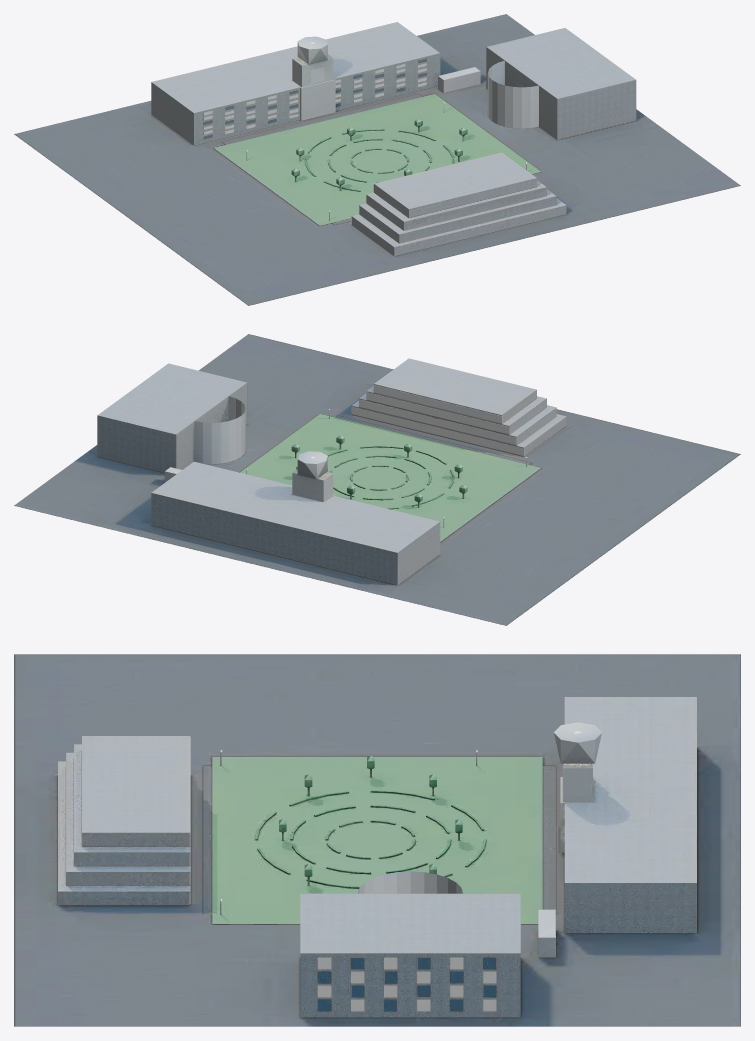
Rendered from starabyss_univ_low.glb.
3 views of the same model, one above another, from view 1: azimuth 30°, elevation 25°; view 2: azimuth 150°, elevation 25°; view 3: azimuth 270°, elevation 25° (orthographic). The views are drawn at different scales.
Visible parts, largest first — view 1: site_ground, props_main, props_plaza, props_library, props_medical, props_link; view 2: site_ground, props_main, props_plaza, props_medical, props_library; view 3: site_ground, props_plaza, props_main, props_medical, props_library, props_link.
Boxes of the visible parts, <box> form: site_ground: <box>14,14,740,305</box>; props_main: <box>151,22,440,145</box>; props_plaza: <box>214,93,541,225</box>; props_library: <box>351,152,566,256</box>; props_medical: <box>486,28,636,139</box>; props_link: <box>438,67,480,92</box>; site_ground: <box>14,334,740,625</box>; props_main: <box>151,451,440,585</box>; props_plaza: <box>240,414,540,541</box>; props_medical: <box>97,363,247,472</box>; props_library: <box>351,358,566,456</box>; site_ground: <box>14,654,740,1026</box>; props_plaza: <box>203,756,555,924</box>; props_main: <box>553,697,696,933</box>; props_medical: <box>300,871,520,1017</box>; props_library: <box>58,736,190,905</box>; props_link: <box>538,909,555,957</box>.
Bounding box in the file's own units: 200 × 27.3 × 165.
Materials: 7 (7 with a texture image).
